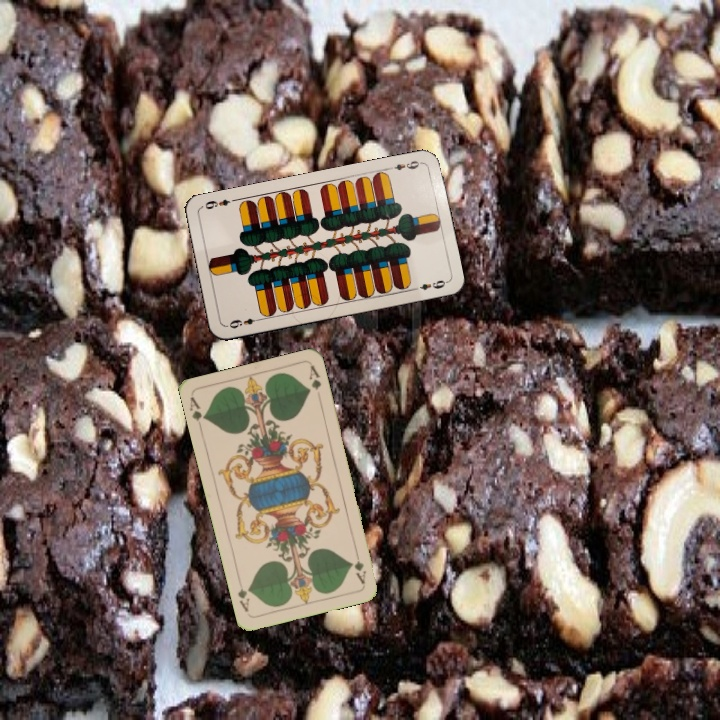E9: (384, 156, 425, 173), (225, 314, 264, 331)
GA: (186, 393, 209, 433), (350, 546, 369, 586)
